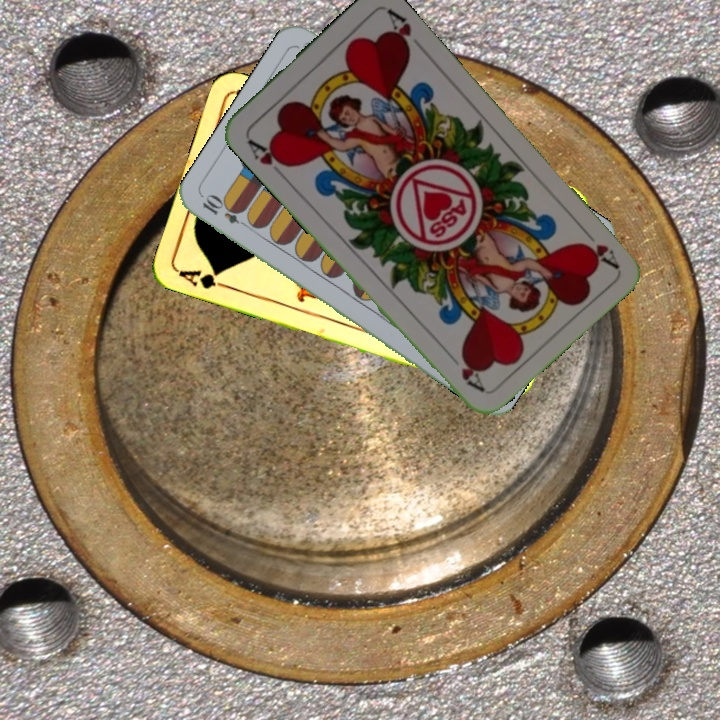E10: (198, 192, 254, 232)
GA: (174, 265, 233, 292)
HA: (576, 222, 621, 271), (242, 132, 293, 171)
